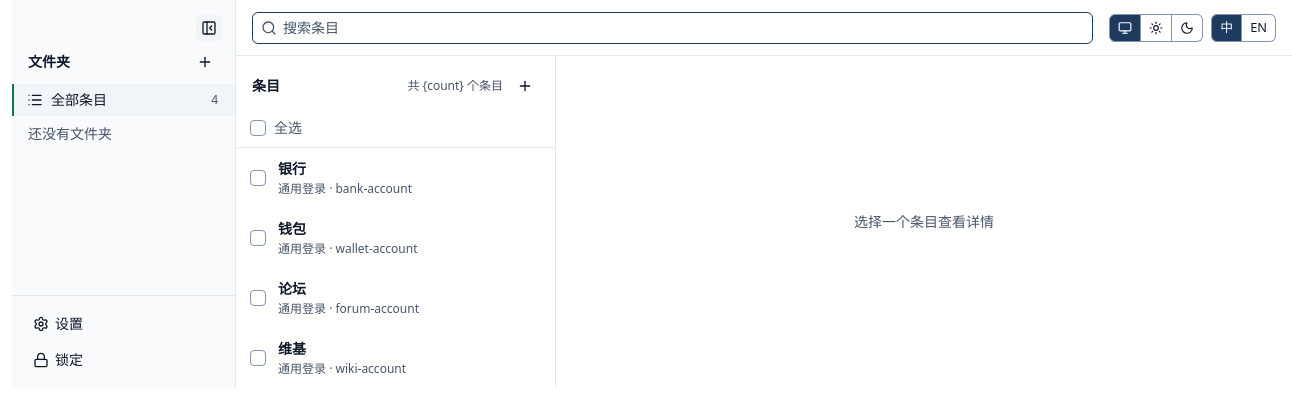
手动锁定: 再次输入主密码后恢复 › 解锁页输错主密码仍停在解锁页, 没有条目
Click the button "锁定" at (124, 360), box [24,344,223,376]
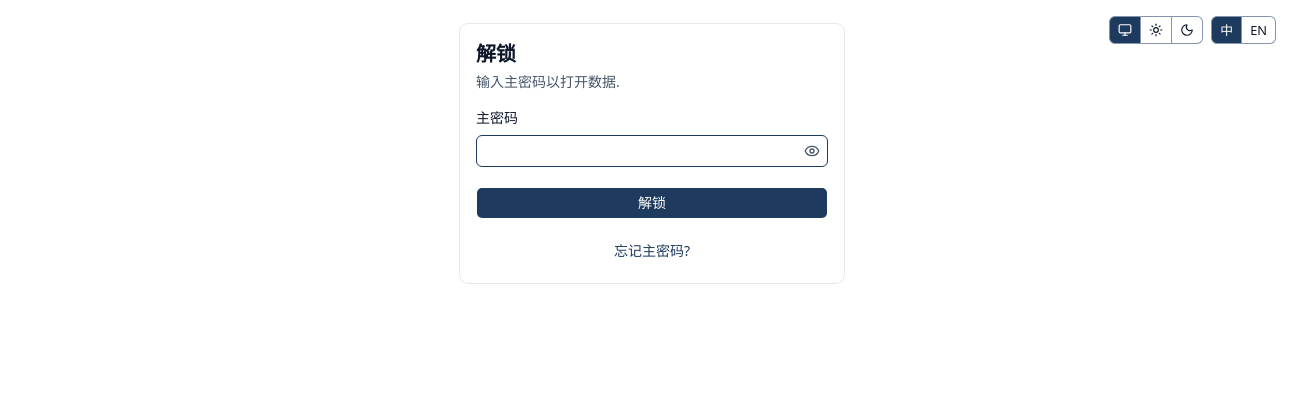
Expected: the heading "解锁" is shown, [476,40,516,67]
Type "wrong password" into the password field labelled "主密码" at (638, 151), box [477,135,800,167]
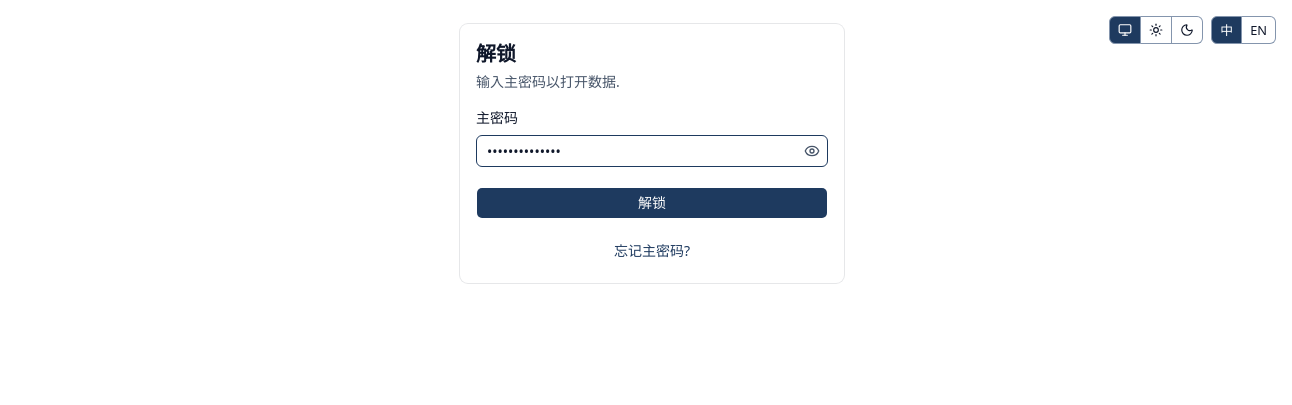
Click the button "解锁" at (652, 203), box [476,187,828,219]
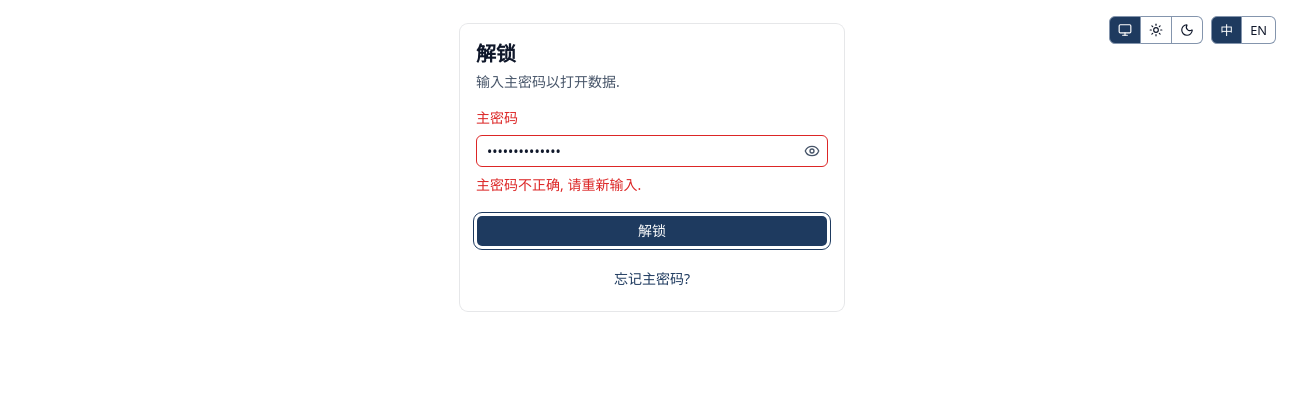
Expected: the text "主密码不正确, 请重新输入." is shown, [476,175,641,194]
